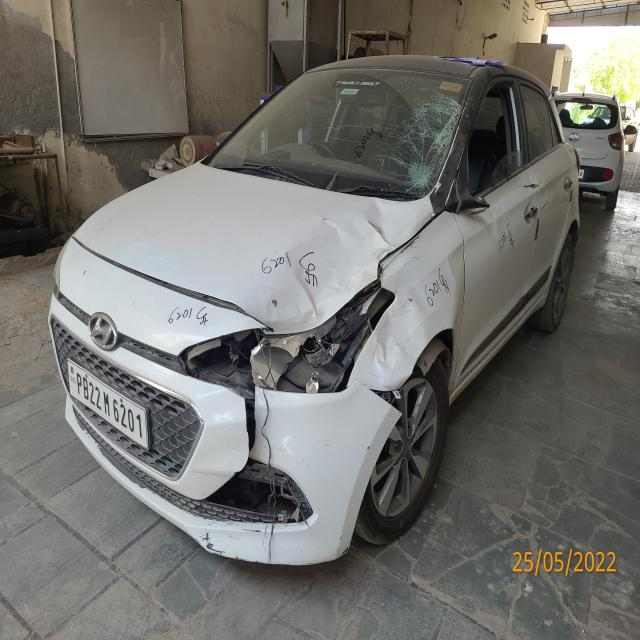damage: (243, 205, 390, 331), (360, 215, 462, 396), (377, 80, 477, 183), (164, 295, 257, 392), (256, 344, 366, 414), (215, 389, 307, 472), (203, 467, 312, 527), (448, 164, 486, 220), (186, 519, 233, 559)
